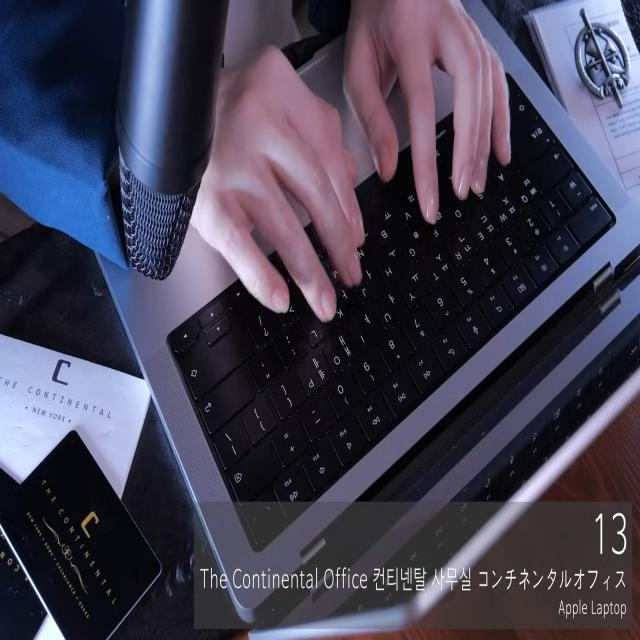keyboard-with-hands: (165, 69, 619, 555)
